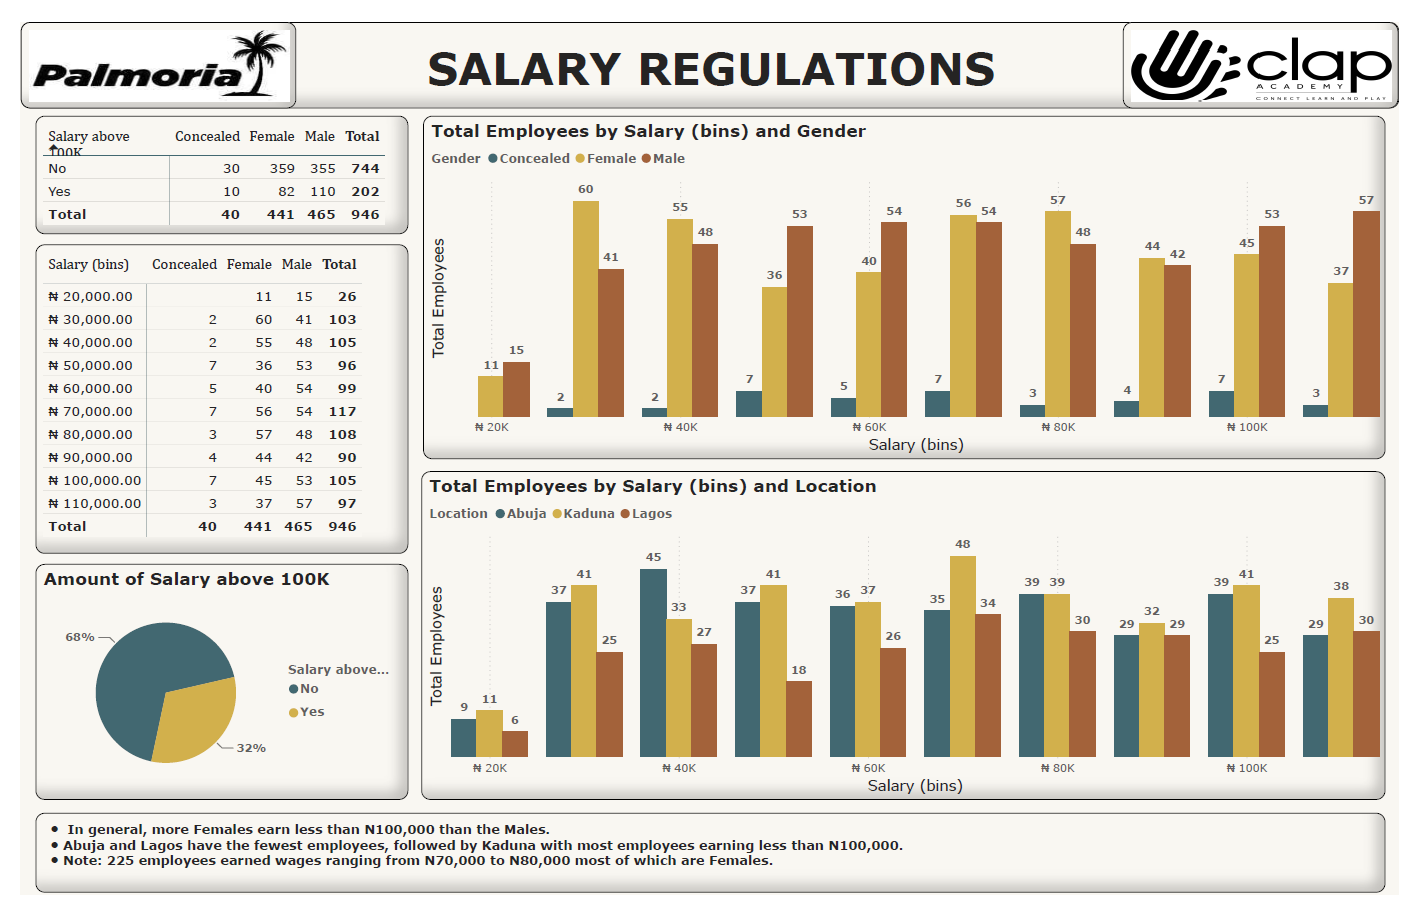

Layout of this report page (visuals, bound fields, positions):
{"tool":"powerbi","page":{"name":"Salary Regulations","canvas":[1500,950],"ordinal":5},"visuals":[{"type":"textbox","box":[0,0,1500.9,94.3],"z":0,"group":"g1"},{"type":"pieChart","title":"Amount of Salary above 100K","fields":{"Category":["Palmoria Data.Salary above 100K"],"Y":["Sum(Palmoria Data.Salary)"]},"box":[15.9,590.4,405.8,256.2],"z":0},{"type":"image","box":[1200.2,0,300.1,94.1],"z":1000,"group":"g1"},{"type":"clusteredColumnChart","fields":{"Category":["Palmoria Data.Salary (bins)"],"Y":["Palmoria Data.Total Employees"],"Series":["Palmoria Data.Location"]},"box":[436,488.5,1050.3,358],"z":1000},{"type":"image","box":[0,0,300.1,94],"z":2000,"group":"g1"},{"type":"clusteredColumnChart","fields":{"Series":["Palmoria Data.Gender"],"Category":["Palmoria Data.Salary (bins)"],"Y":["Palmoria Data.Total Employees"]},"box":[437.6,101.8,1048.7,374],"z":2000},{"type":"pivotTable","fields":{"Values":["Palmoria Data.Total Employees"],"Rows":["Palmoria Data.Salary above 100K"],"Columns":["Palmoria Data.Gender"]},"box":[15.9,101.8,405.8,128.9],"z":3000},{"type":"pivotTable","fields":{"Rows":["Palmoria Data.Salary (bins)"],"Columns":["Palmoria Data.Gender"],"Values":["Palmoria Data.Total Employees"]},"box":[15.9,241.9,405.8,337.4],"z":4000},{"type":"textbox","box":[15.9,860.9,1470.4,87.5],"z":5000},{"type":"group","id":"g1","title":"Group 1","box":[0,0,1500.9,94.3],"z":6000}]}

Visuals, with their boxes in screenshot pixels (x1, y1, x2, y2), scaled from the page's 1500x950 canvas onto the 1421x912 screenshot:
textbox: [x1=0, y1=0, x2=1420, y2=91]
"Amount of Salary above 100K" pieChart: [x1=15, y1=567, x2=399, y2=813]
image: [x1=1137, y1=0, x2=1420, y2=90]
clusteredColumnChart - Palmoria Data.Salary (bins) x Palmoria Data.Total Employees: [x1=413, y1=469, x2=1408, y2=813]
image: [x1=0, y1=0, x2=284, y2=90]
clusteredColumnChart - Palmoria Data.Gender x Palmoria Data.Salary (bins): [x1=415, y1=98, x2=1408, y2=457]
pivotTable - Palmoria Data.Total Employees x Palmoria Data.Salary above 100K: [x1=15, y1=98, x2=399, y2=221]
pivotTable - Palmoria Data.Salary (bins) x Palmoria Data.Gender: [x1=15, y1=232, x2=399, y2=556]
textbox: [x1=15, y1=826, x2=1408, y2=910]
"Group 1" group: [x1=0, y1=0, x2=1420, y2=91]
